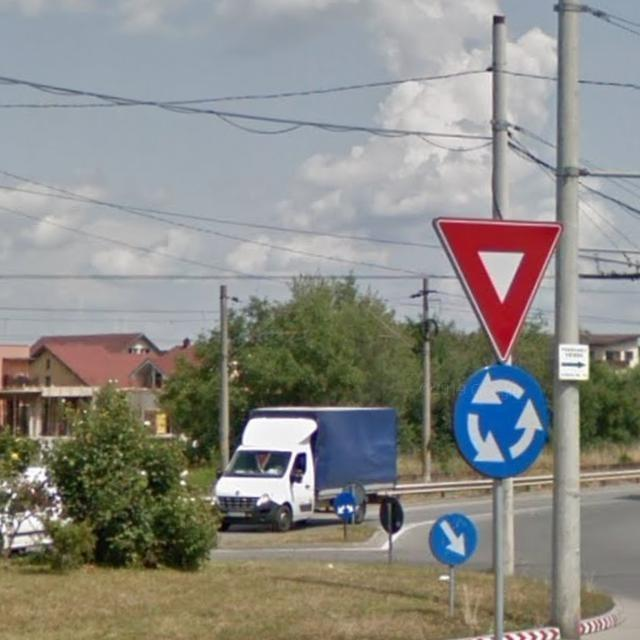prio_give_way: (430, 217, 571, 365)
